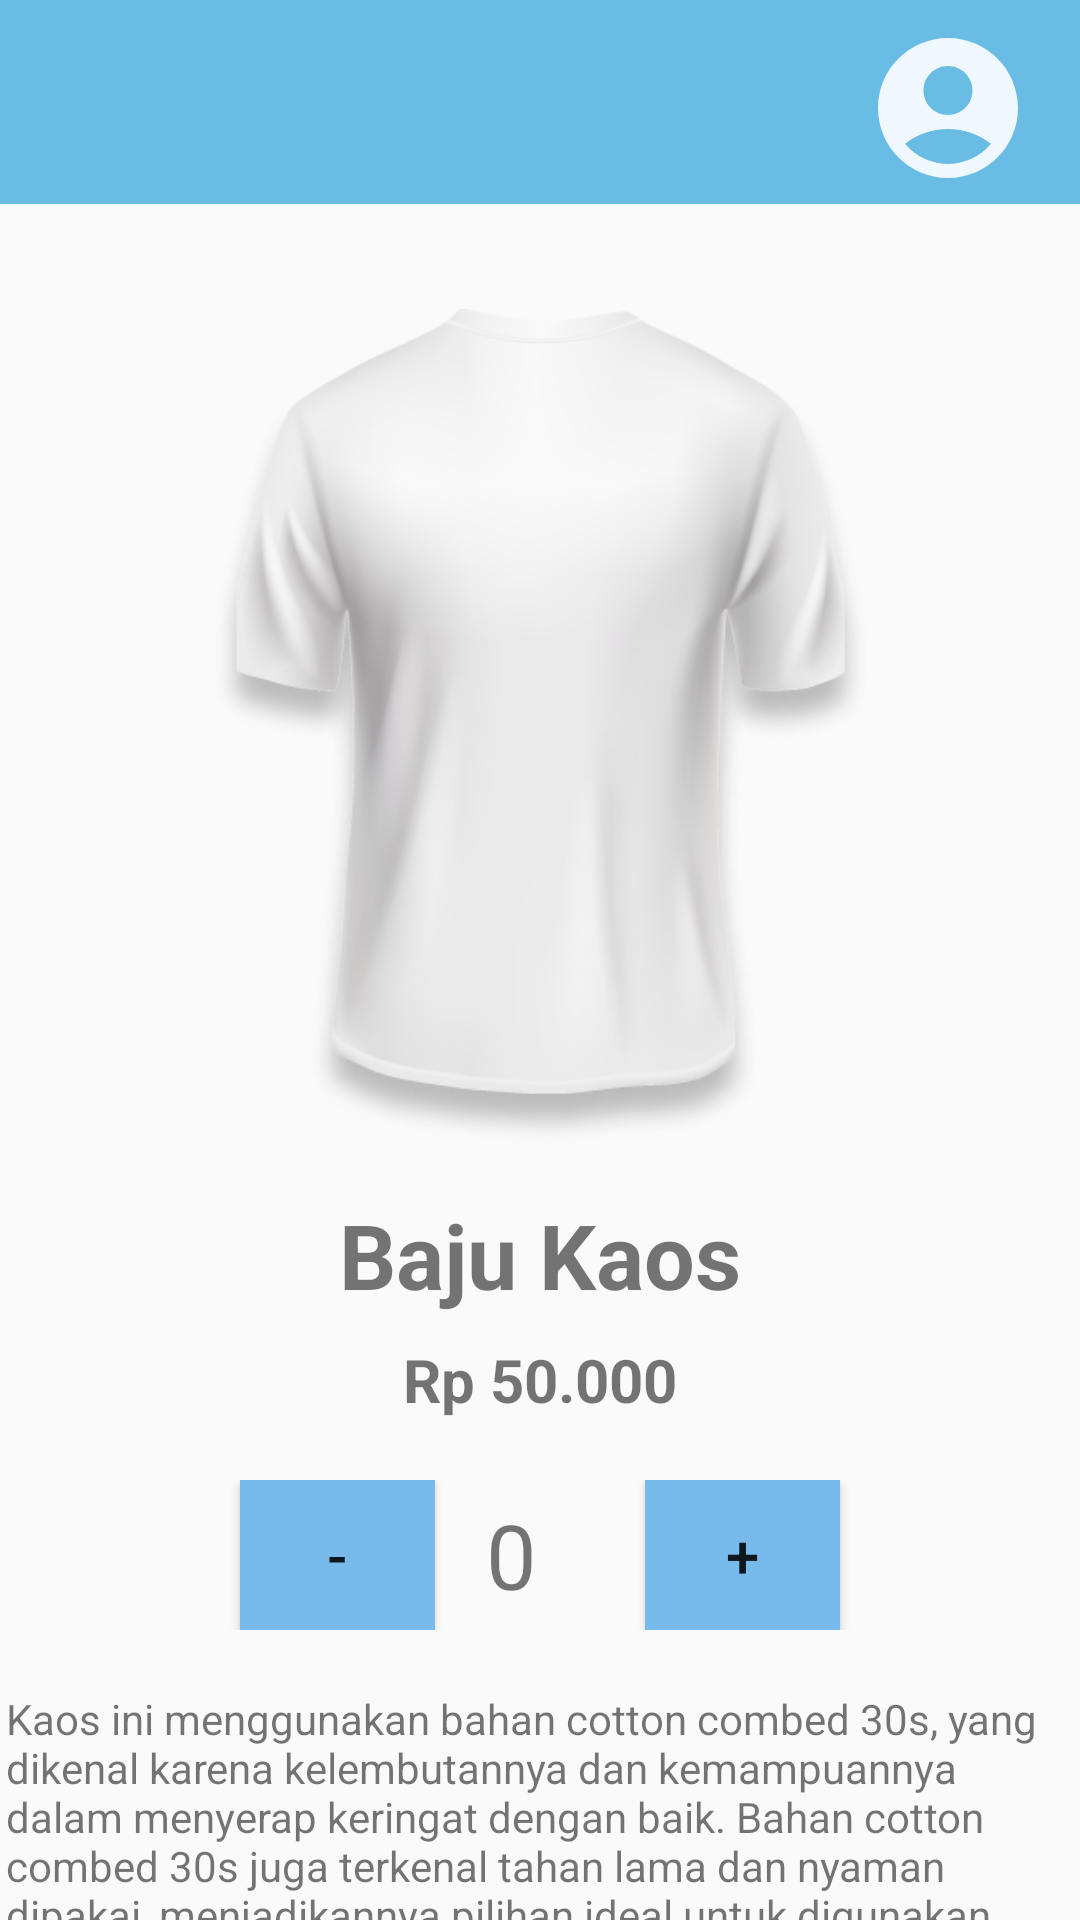

Named icons in this screenshot (1080 × 1920) and their bounding boxes, (x1, y1, x2, y2):
account circle: (878, 38, 1018, 178)
